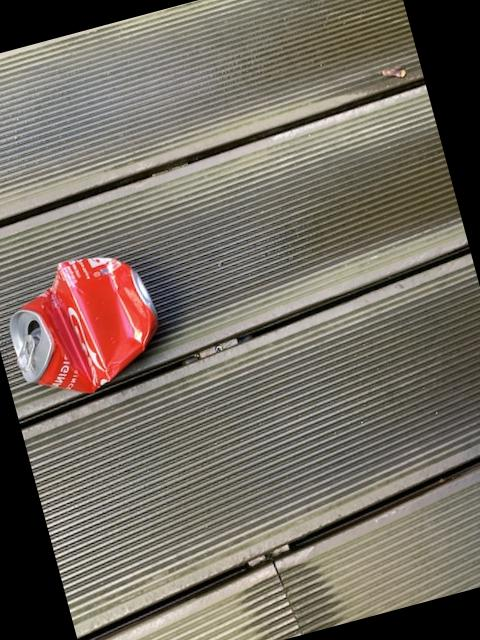metal: (11, 256, 158, 390)
